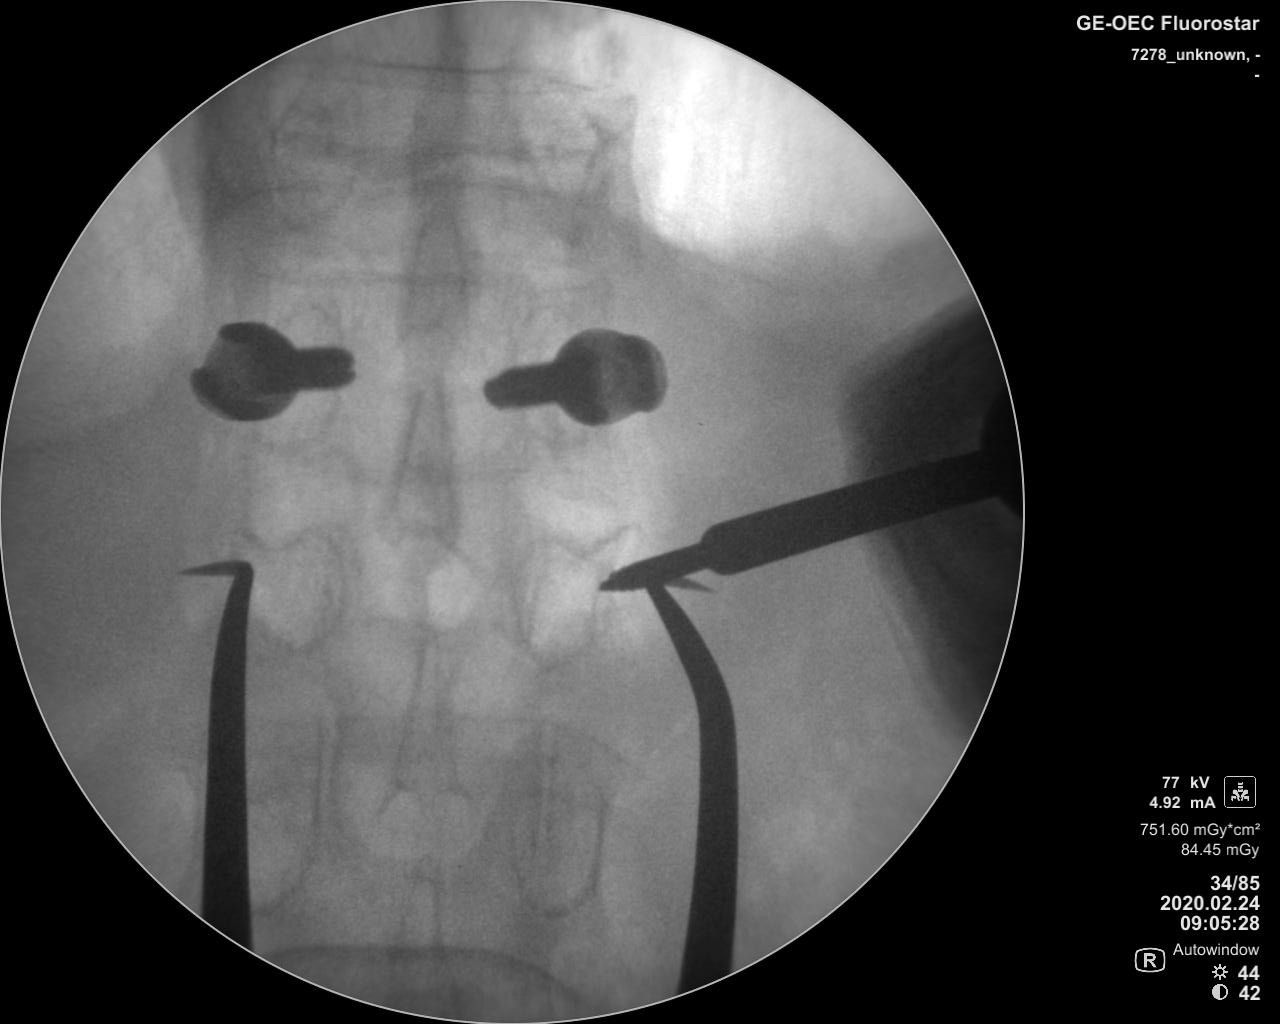eyes: (502, 766, 608, 920), (511, 304, 596, 450), (258, 307, 340, 453), (250, 532, 343, 653), (514, 542, 601, 667), (517, 85, 601, 209)
line: (264, 942, 599, 998), (250, 709, 615, 744), (270, 267, 615, 296)
nose: (393, 194, 472, 376), (385, 626, 464, 808), (406, 9, 478, 201), (388, 377, 459, 542), (389, 848, 446, 1013)
